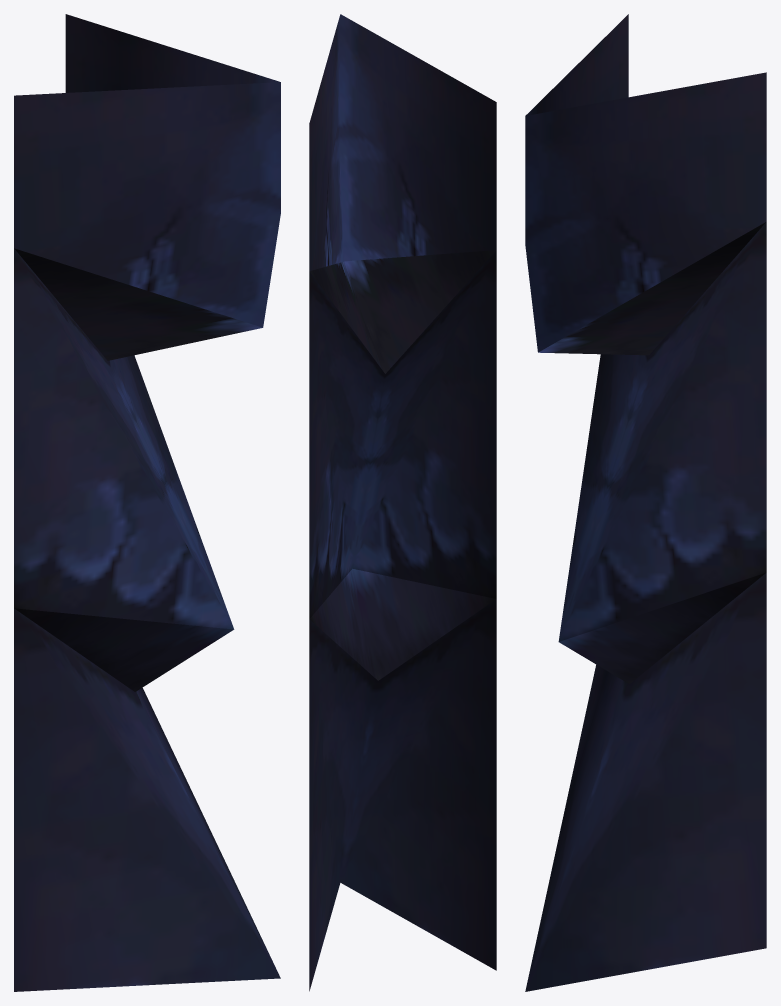
Rendered from palace_half_convex_02.fbx.
The picture shows the model from 3 angles, left to right: view 1: azimuth 30°, elevation 25°; view 2: azimuth 150°, elevation 25°; view 3: azimuth 270°, elevation 25°; orthographic projection. The views are drawn at different scales.
Parts seen in each view (by area): view 1: palace_tileset/palace_corners_mat; view 2: palace_tileset/palace_corners_mat; view 3: palace_tileset/palace_corners_mat.
Part boxes in pixels (<box>): palace_tileset/palace_corners_mat: <box>14,14,280,991</box>; palace_tileset/palace_corners_mat: <box>309,14,496,991</box>; palace_tileset/palace_corners_mat: <box>525,14,766,991</box>.
Size of the model in its own units: 0.6871 by 2.75 by 0.6871.
